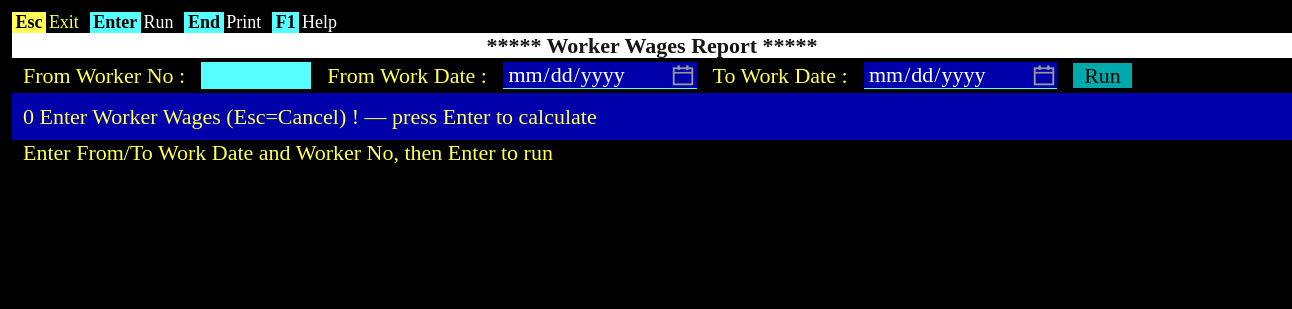
Test: browse screen smoke › runs the worker wages report
The width and height of the screenshot is (1292, 309).
Check: the text "***** Worker Wages Report *****" is shown, box [12,33,1291,58]
Click the button "Run" at (1103, 76), box [1073,63,1132,88]
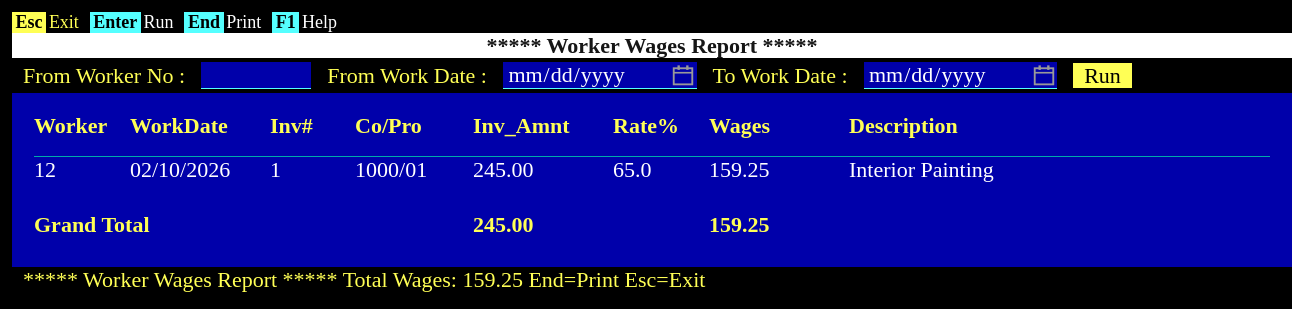
Check: the text "Total Wages" is shown, box [23,267,705,292]
Check: the text "Interior Painting" is shown, box [849,157,994,182]
